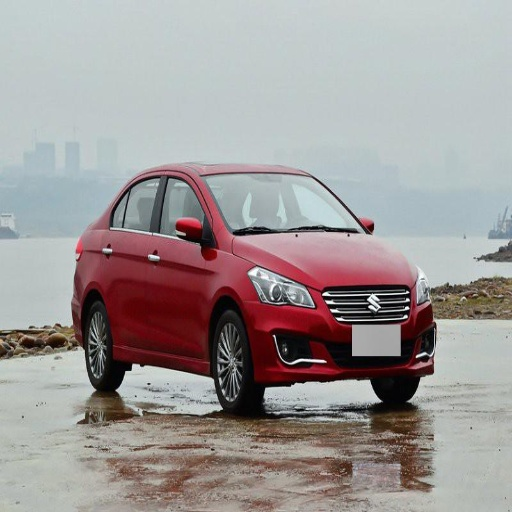front_bumper: (247, 285, 435, 383)
front_right_door: (148, 173, 209, 357)
front_right_light: (248, 267, 314, 308)
